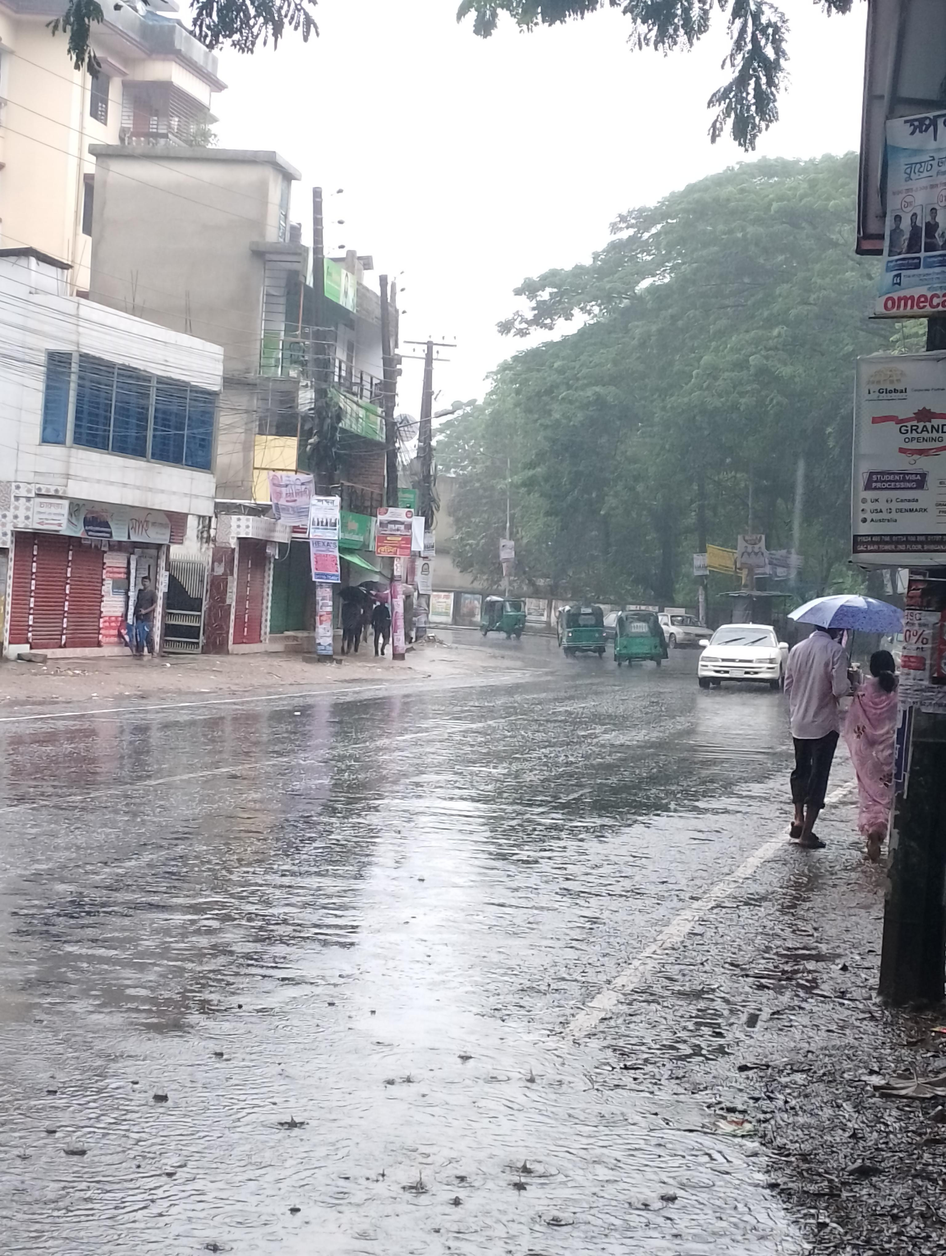Car: (693, 605, 794, 715)
